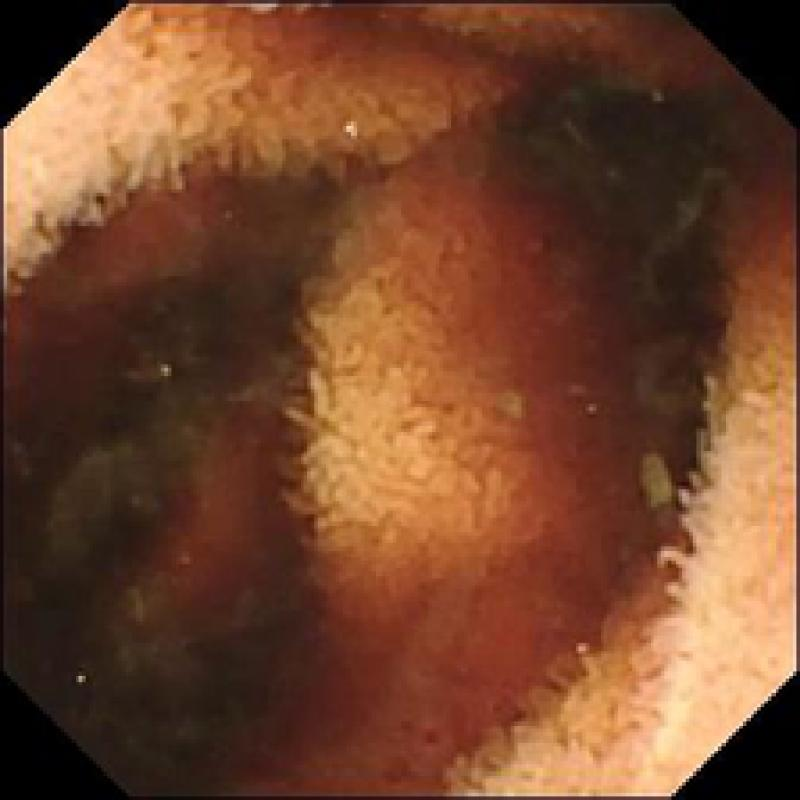bleeding: (146, 411, 268, 639)
